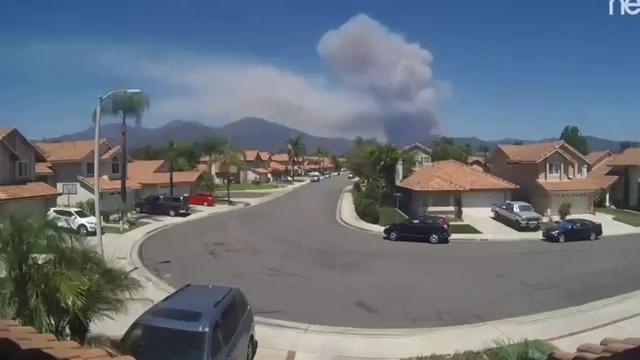smoke: (341, 26, 407, 75), (378, 82, 425, 126)
